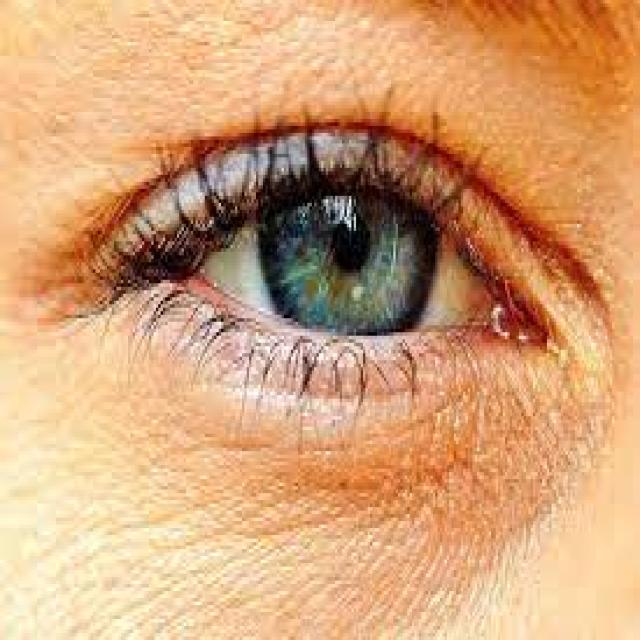Eyes-iris: (256, 146, 444, 361)
